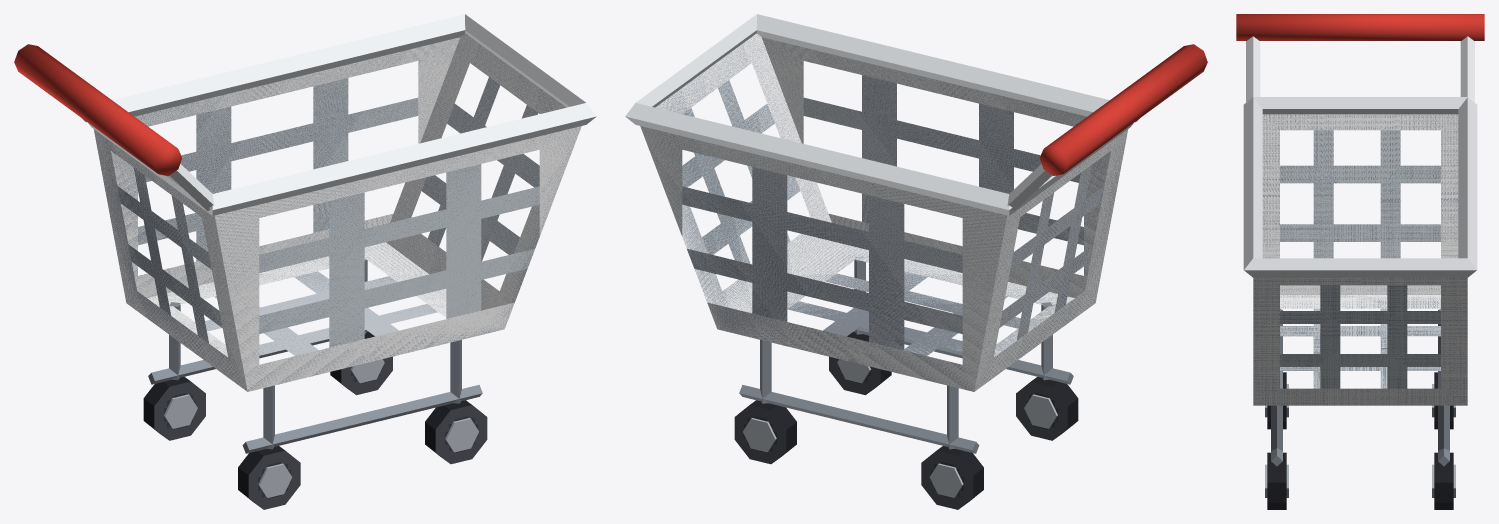
The model's file is money-cart.glb.
The picture shows the model from 3 angles, left to right: view 1: azimuth 30°, elevation 25°; view 2: azimuth 150°, elevation 25°; view 3: azimuth 270°, elevation 25°; orthographic projection. The views are drawn at different scales.
Visible parts, largest first — view 1: money.cart; view 2: money.cart; view 3: money.cart.
Boxes of the visible parts, x1,y1,x2,y2 form: money.cart: (14,14,596,509); money.cart: (625,14,1207,509); money.cart: (1236,14,1484,509).
Size of the model in its own units: 1.42 by 1.23 by 0.7744.
Materials: 8 (3 with a texture image).
